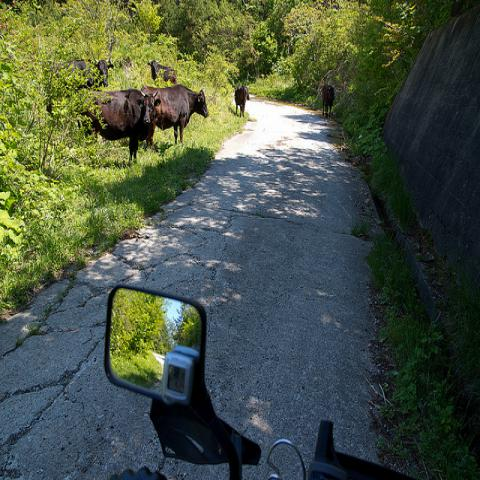motorcycle: (105, 284, 395, 474)
